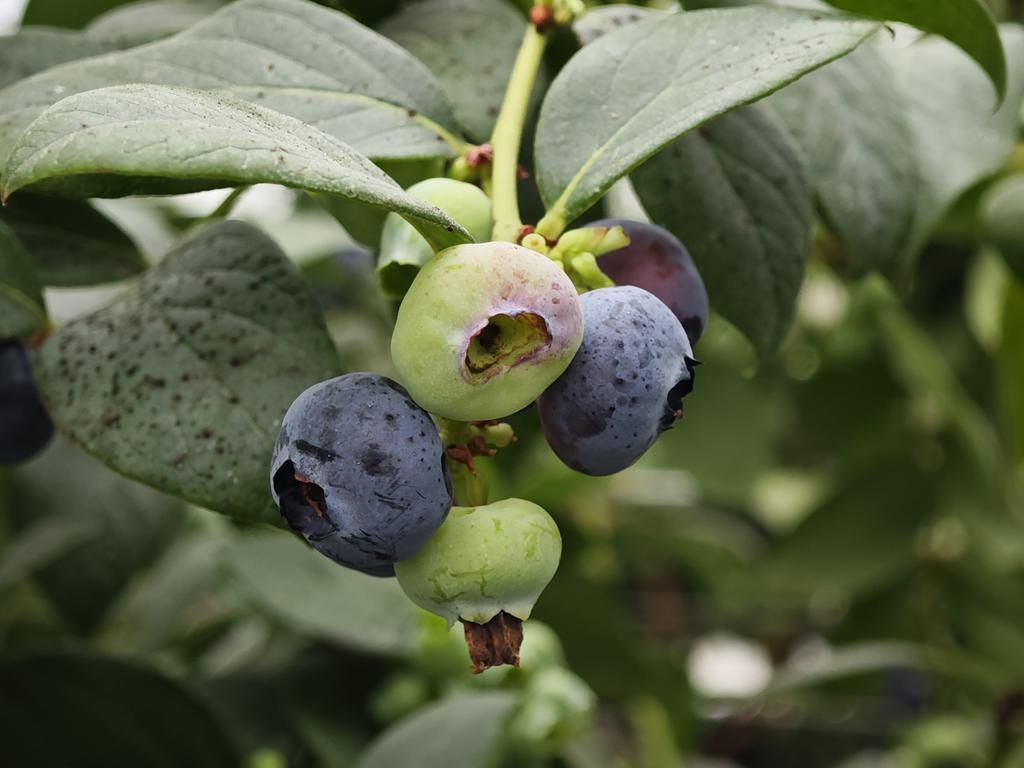RipeBlueBerry: (264, 367, 458, 576), (539, 282, 701, 479)
UnripeBlueBerry: (384, 239, 587, 426), (392, 493, 565, 640)
